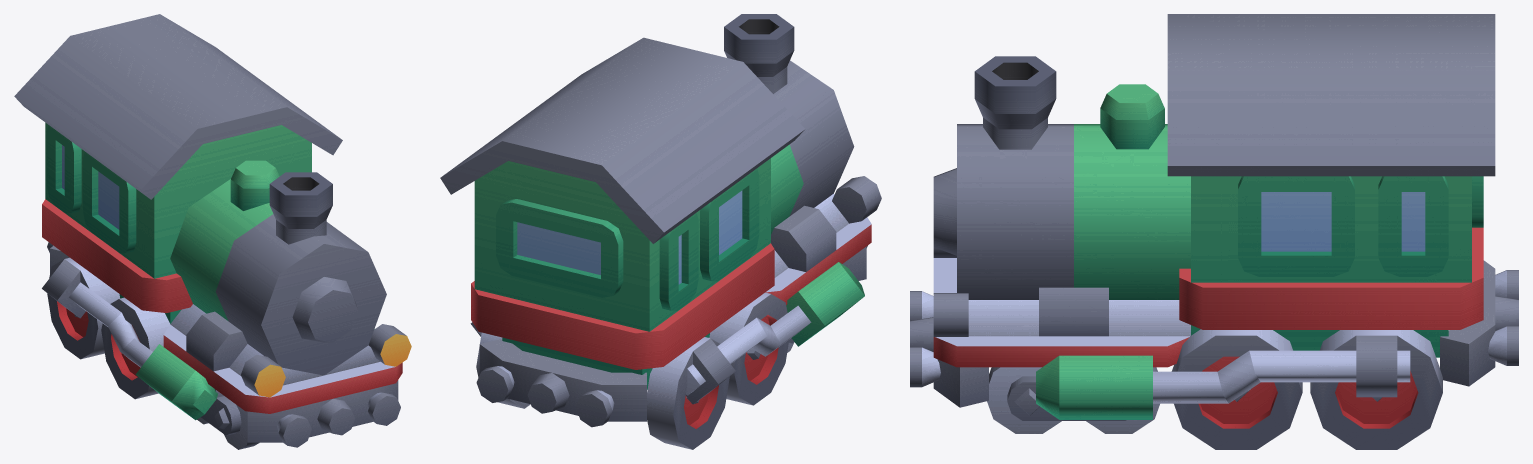
File: toy-train.glb
3 renders of one model, left to right at view 1: azimuth 30°, elevation 25°; view 2: azimuth 150°, elevation 25°; view 3: azimuth 270°, elevation 25°, orthographic. The views are drawn at different scales.
Parts seen in each view (by area): view 1: train-locomotive-a, wheel (×2), wheels-front; view 2: train-locomotive-a, wheel (×2); view 3: train-locomotive-a, wheel (×2), wheels-front.
Part boxes in pixels (x1,y1,x2,y2): train-locomotive-a: (14, 14, 411, 447); wheel (×2): (47, 257, 170, 399); wheels-front: (197, 389, 259, 449); train-locomotive-a: (440, 14, 881, 427); wheel (×2): (647, 292, 789, 449); train-locomotive-a: (910, 14, 1518, 419); wheel (×2): (1171, 329, 1442, 449); wheels-front: (987, 367, 1159, 433).
Size of the model in its own units: 1.43 by 1.66 by 2.6.
1 material, 1 textured.
